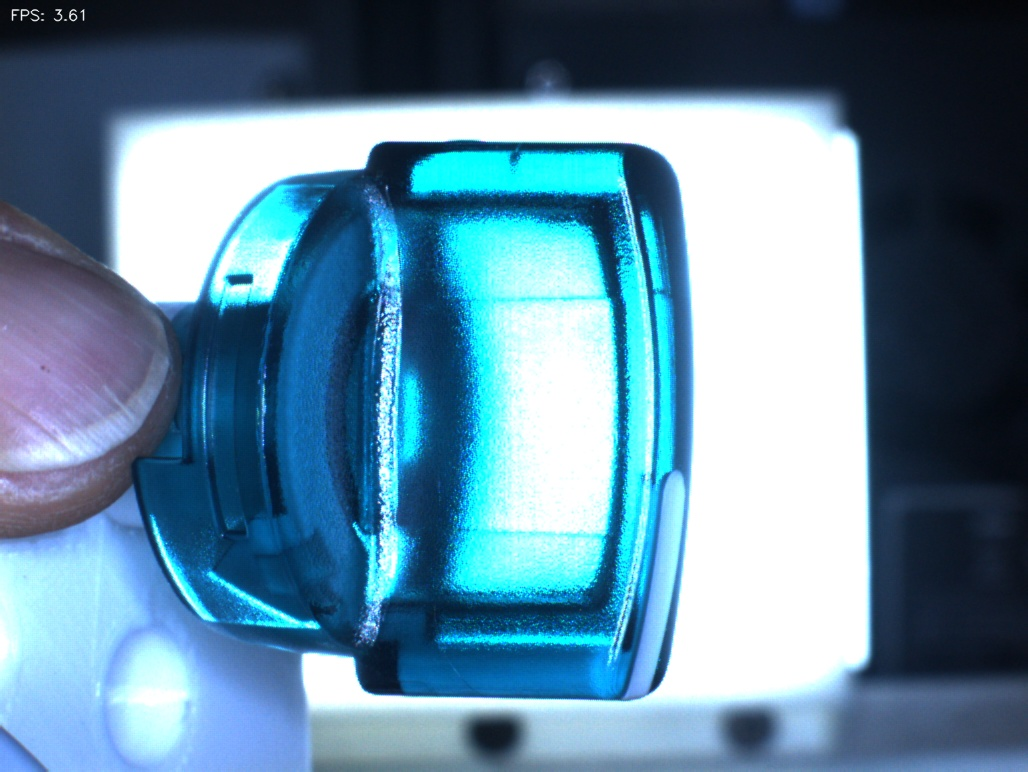Bulle: (477, 123, 552, 191)
